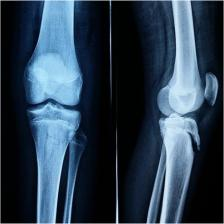avulsion-fracture: (12, 0, 224, 224)
